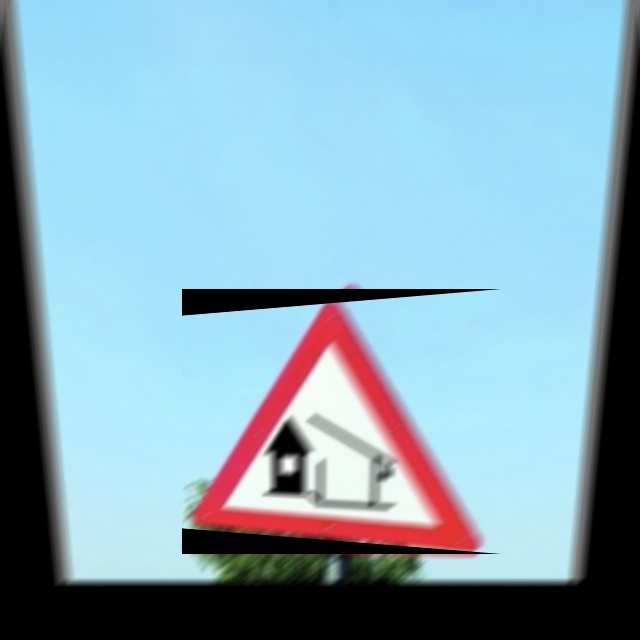Barrier_Ahead: (182, 289, 502, 554)
